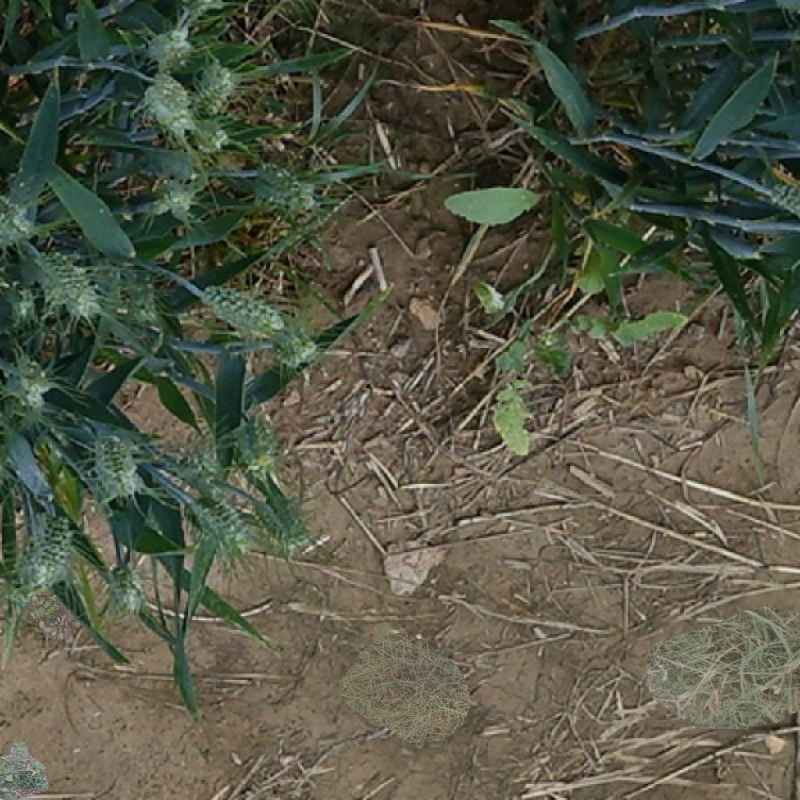spikelet: (16, 517, 72, 597), (199, 285, 285, 332), (135, 69, 200, 131), (32, 253, 93, 314), (101, 557, 147, 627), (143, 21, 200, 71), (89, 432, 137, 491), (254, 493, 304, 546), (184, 496, 239, 544), (249, 166, 311, 206), (1, 185, 39, 249), (233, 414, 278, 464), (3, 277, 41, 335), (196, 60, 240, 110), (7, 355, 50, 405), (149, 177, 200, 214), (174, 441, 213, 486), (186, 105, 227, 147), (125, 275, 157, 318), (759, 182, 798, 216), (276, 337, 314, 368)
weed: (483, 290, 696, 447), (442, 170, 642, 284), (331, 612, 474, 748), (646, 606, 800, 729), (23, 590, 79, 643), (1, 742, 49, 800)
